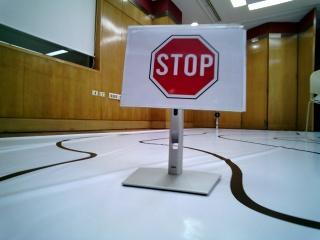stop: (130, 27, 240, 109)
